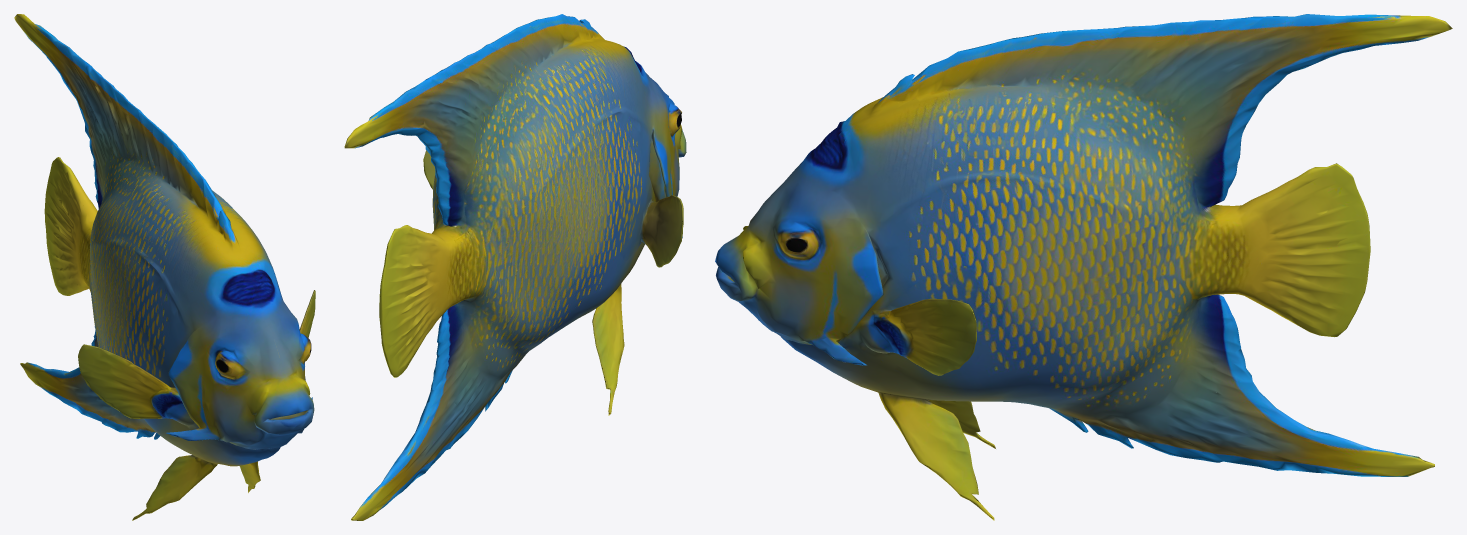
File: angel.glb
3 views of the same model, side by side, from view 1: azimuth 30°, elevation 25°; view 2: azimuth 150°, elevation 25°; view 3: azimuth 270°, elevation 25° (orthographic). The views are drawn at different scales.
Parts seen in each view (by area): view 1: tripo_node_0d14d8e8-7285-49ec-ad0b-09acdcedfd33; view 2: tripo_node_0d14d8e8-7285-49ec-ad0b-09acdcedfd33; view 3: tripo_node_0d14d8e8-7285-49ec-ad0b-09acdcedfd33.
Boxes of the visible parts, x1,y1,x2,y2 form: tripo_node_0d14d8e8-7285-49ec-ad0b-09acdcedfd33: [14, 14, 315, 520]; tripo_node_0d14d8e8-7285-49ec-ad0b-09acdcedfd33: [344, 14, 686, 520]; tripo_node_0d14d8e8-7285-49ec-ad0b-09acdcedfd33: [715, 14, 1452, 520].
Size of the model in its own units: 0.4735 by 0.7065 by 1.
Materials: 1 (1 with a texture image).
